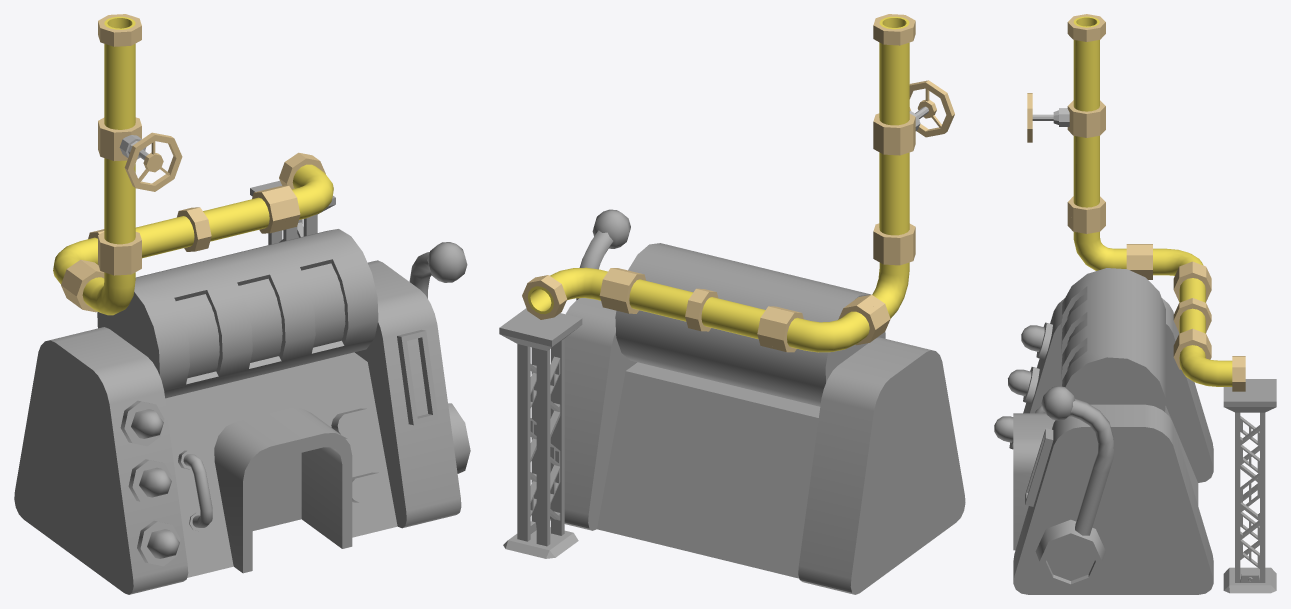
Rendered from CardMachine.fbx.
3 views of the same model, side by side, from view 1: azimuth 30°, elevation 25°; view 2: azimuth 150°, elevation 25°; view 3: azimuth 270°, elevation 25° (orthographic). The views are drawn at different scales.
Parts seen in each view (by area): view 1: Cube.008, polySurface3, Cylinder.011, polySurface2, Vert.013, Vert.026, Vert.008, Cylinder.014, Cylinder.016, Cylinder.017, pCube5, Cylinder.018 (+25 smaller); view 2: Cube.008, polySurface3, Cylinder.011, Cube.003, polySurface2, Vert.013, Vert.026, Vert.008, Vert.010, Vert.038, Vert.022, Cylinder.018 (+14 smaller); view 3: polySurface2, Cylinder.011, Cube.003, polySurface3, pCylinder1, Cube.008, pCylinder4, Vert.026, Vert.008, Vert.038, Vert.022, Vert.013 (+18 smaller).
Boxes of the visible parts, x1=… form: Cube.008: x1=165, y1=352, x2=397, y2=577; polySurface3: x1=14, y1=327, x2=188, y2=594; Cylinder.011: x1=97, y1=229, x2=378, y2=398; polySurface2: x1=355, y1=260, x2=461, y2=528; Vert.013: x1=135, y1=197, x2=269, y2=258; Vert.026: x1=104, y1=16, x2=135, y2=129; Vert.008: x1=104, y1=158, x2=135, y2=244; Cylinder.014: x1=302, y1=263, x2=345, y2=347; Cylinder.016: x1=239, y1=278, x2=282, y2=362; Cylinder.017: x1=176, y1=294, x2=219, y2=378; pCube5: x1=397, y1=329, x2=438, y2=425; Cylinder.018: x1=124, y1=132, x2=182, y2=191; Cube.008: x1=597, y1=362, x2=820, y2=578; polySurface3: x1=798, y1=337, x2=965, y2=594; Cylinder.011: x1=615, y1=243, x2=885, y2=406; Cube.003: x1=499, y1=308, x2=582, y2=558; polySurface2: x1=550, y1=298, x2=636, y2=530; Vert.013: x1=629, y1=279, x2=765, y2=339; Vert.026: x1=879, y1=16, x2=909, y2=125; Vert.008: x1=879, y1=152, x2=909, y2=235; Vert.010: x1=787, y1=311, x2=869, y2=352; Vert.038: x1=527, y1=267, x2=607, y2=314; Vert.022: x1=872, y1=262, x2=909, y2=318; Cylinder.018: x1=909, y1=80, x2=954, y2=137; polySurface2: x1=1013, y1=404, x2=1213, y2=594; Cylinder.011: x1=1061, y1=268, x2=1165, y2=411; Cube.003: x1=1223, y1=379, x2=1276, y2=593; polySurface3: x1=1023, y1=298, x2=1213, y2=482; pCylinder1: x1=1035, y1=519, x2=1105, y2=589; Cube.008: x1=1013, y1=406, x2=1198, y2=550; pCylinder4: x1=1069, y1=399, x2=1113, y2=535; Vert.026: x1=1073, y1=16, x2=1099, y2=111; Vert.008: x1=1073, y1=136, x2=1099, y2=207; Vert.038: x1=1179, y1=345, x2=1232, y2=386; Vert.022: x1=1073, y1=231, x2=1126, y2=270; Vert.013: x1=1179, y1=278, x2=1205, y2=333.
Size of the model in its own units: 657 by 940 by 533.
